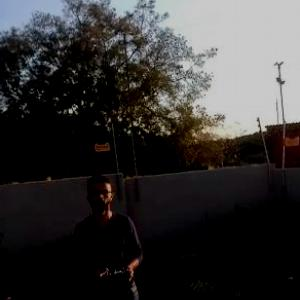follow: (69, 173, 155, 299)
